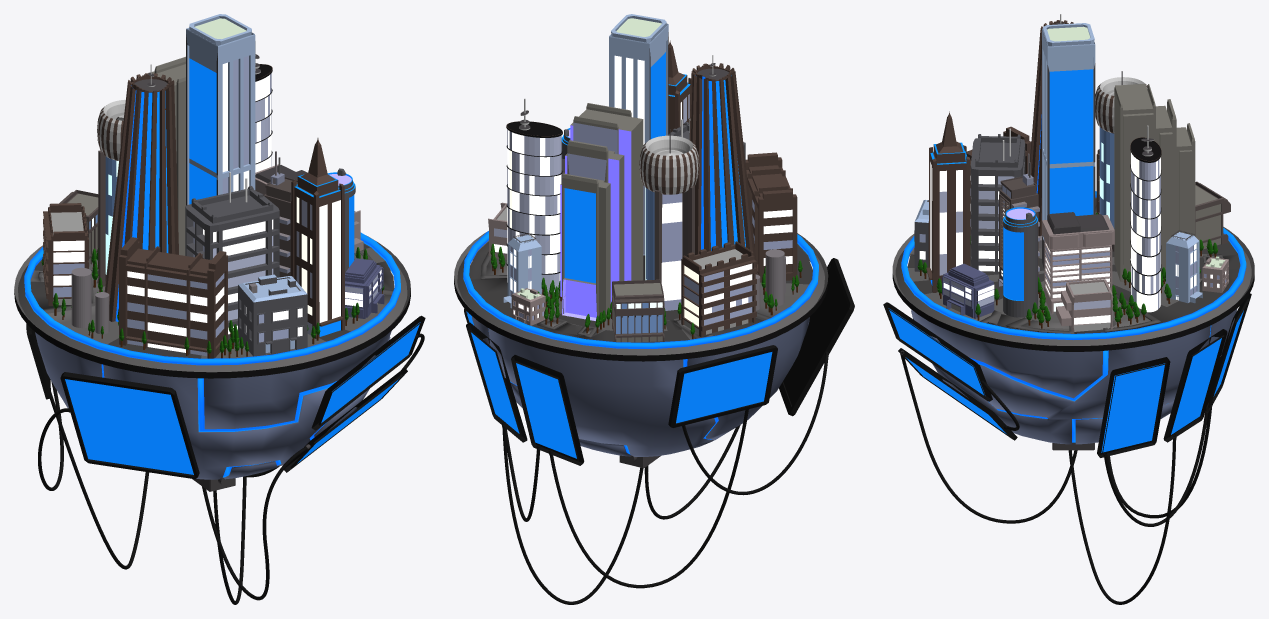
Rendered from dev_world.glb.
The picture shows the model from 3 angles, left to right: view 1: azimuth 30°, elevation 25°; view 2: azimuth 150°, elevation 25°; view 3: azimuth 270°, elevation 25°; orthographic projection. The views are drawn at different scales.
Parts seen in each view (by area): view 1: Sphère, Cube.009, Cylindre.003, Cube.013, Cube.015, Cube.033, Cube.010, Cube.027, Sphère.001, Sphère.003, Cube.011, Sphère.002 (+18 smaller); view 2: Sphère, Cube.006, Cylindre.003, Cylindre.001, Cube.009, Cube.011, Cube.014, Sphère.002, Cube.013, Cylindre.002, Cube.020, Cube.015 (+15 smaller); view 3: Sphère, Cube.009, Cube.006, Cube.033, Sphère.002, Cube.005, Cube.019, Cylindre.001, Cube.010, Sphère.001, Cylindre, Sphère.003 (+18 smaller).
Boxes of the visible parts, bbox=[...] form: Sphère: bbox=[14, 247, 410, 479]; Cube.009: bbox=[186, 14, 255, 205]; Cylindre.003: bbox=[104, 73, 178, 321]; Cube.013: bbox=[119, 237, 227, 358]; Cube.015: bbox=[60, 372, 199, 479]; Cube.033: bbox=[291, 138, 344, 338]; Cube.010: bbox=[185, 186, 279, 334]; Cube.027: bbox=[238, 274, 307, 356]; Sphère.001: bbox=[14, 235, 410, 372]; Sphère.003: bbox=[24, 232, 400, 365]; Cube.011: bbox=[43, 203, 88, 305]; Sphère.002: bbox=[30, 244, 394, 358]; Sphère: bbox=[454, 278, 828, 456]; Cube.006: bbox=[560, 103, 643, 321]; Cylindre.003: bbox=[689, 63, 757, 274]; Cylindre.001: bbox=[506, 121, 562, 292]; Cube.009: bbox=[609, 14, 668, 280]; Cube.011: bbox=[681, 241, 756, 337]; Cube.014: bbox=[668, 345, 777, 427]; Sphère.002: bbox=[469, 241, 812, 342]; Cube.013: bbox=[745, 152, 797, 282]; Cylindre.002: bbox=[645, 149, 694, 310]; Cube.020: bbox=[511, 355, 584, 465]; Cube.015: bbox=[779, 258, 854, 416]; Sphère: bbox=[892, 274, 1254, 444]; Cube.009: bbox=[1042, 23, 1095, 268]; Cube.006: bbox=[1114, 84, 1195, 281]; Cube.033: bbox=[926, 111, 970, 292]; Sphère.002: bbox=[907, 198, 1240, 333]; Cube.005: bbox=[1042, 212, 1114, 314]; Cube.019: bbox=[1097, 357, 1170, 457]; Cylindre.001: bbox=[1130, 137, 1161, 312]; Cube.010: bbox=[970, 134, 1025, 274]; Sphère.001: bbox=[892, 197, 1254, 345]; Cylindre: bbox=[1003, 207, 1037, 317]; Sphère.003: bbox=[901, 191, 1246, 339].
Bounding box in the file's own units: 2.3 × 3.65 × 2.22.
